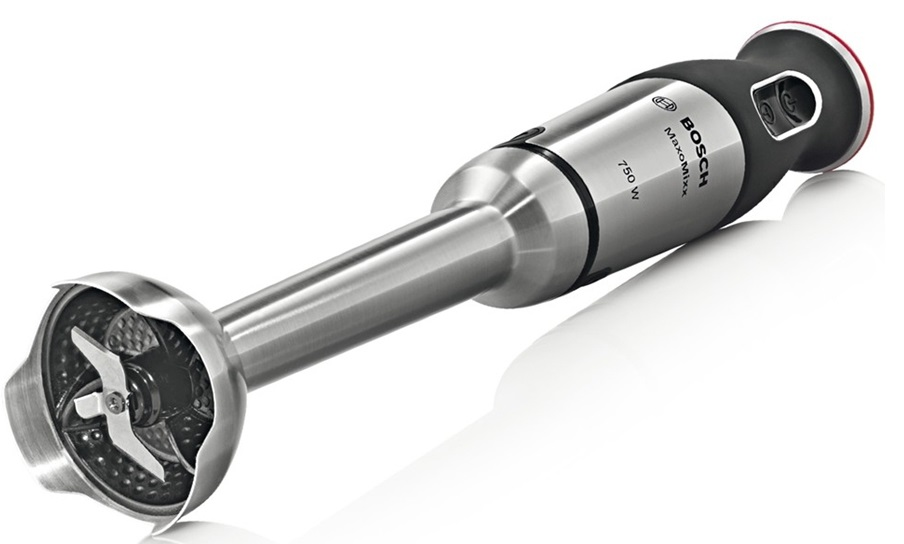Bosch: (677, 110, 714, 197)
